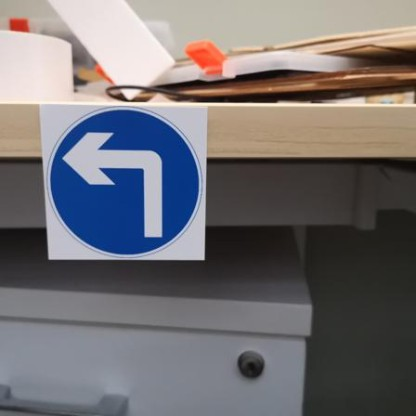left: (41, 96, 209, 269)
